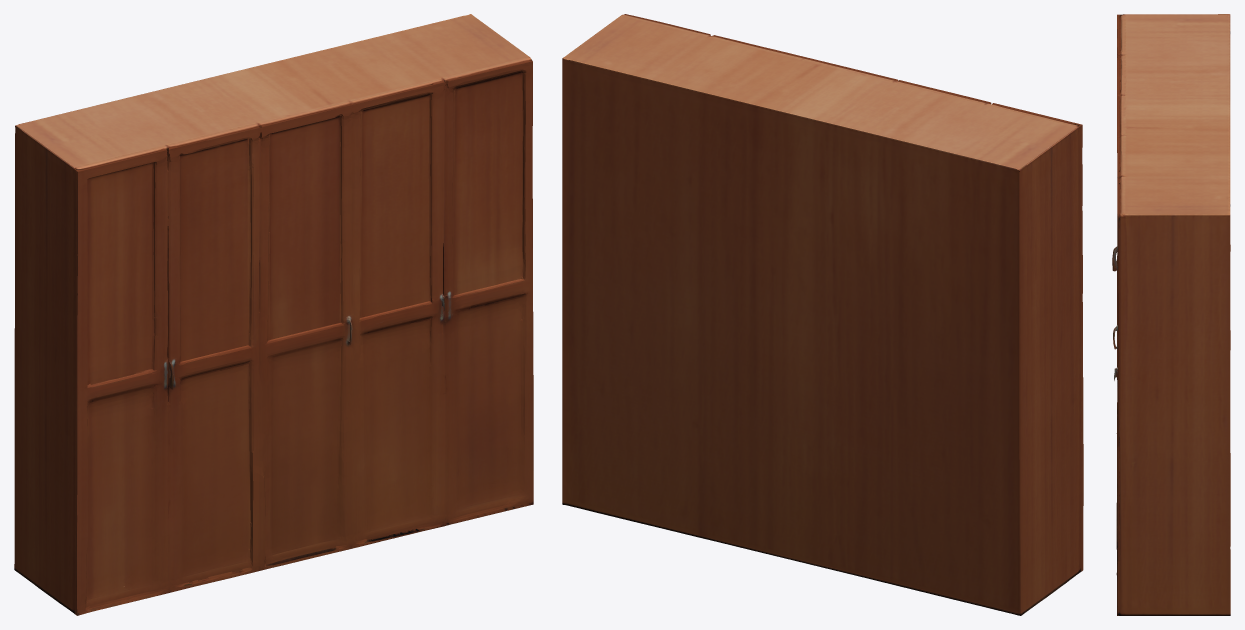
File: before.glb
3 renders of one model, left to right at view 1: azimuth 30°, elevation 25°; view 2: azimuth 150°, elevation 25°; view 3: azimuth 270°, elevation 25°, orthographic. The views are drawn at different scales.
Visible parts, largest first — view 1: world; view 2: world; view 3: world.
Part boxes in pixels (<box>): world: <box>14,14,533,615</box>; world: <box>562,14,1083,615</box>; world: <box>1112,14,1230,615</box>.
Size of the model in its own units: 0.9953 by 0.9256 by 0.2475.
Materials: 1 (1 with a texture image).
